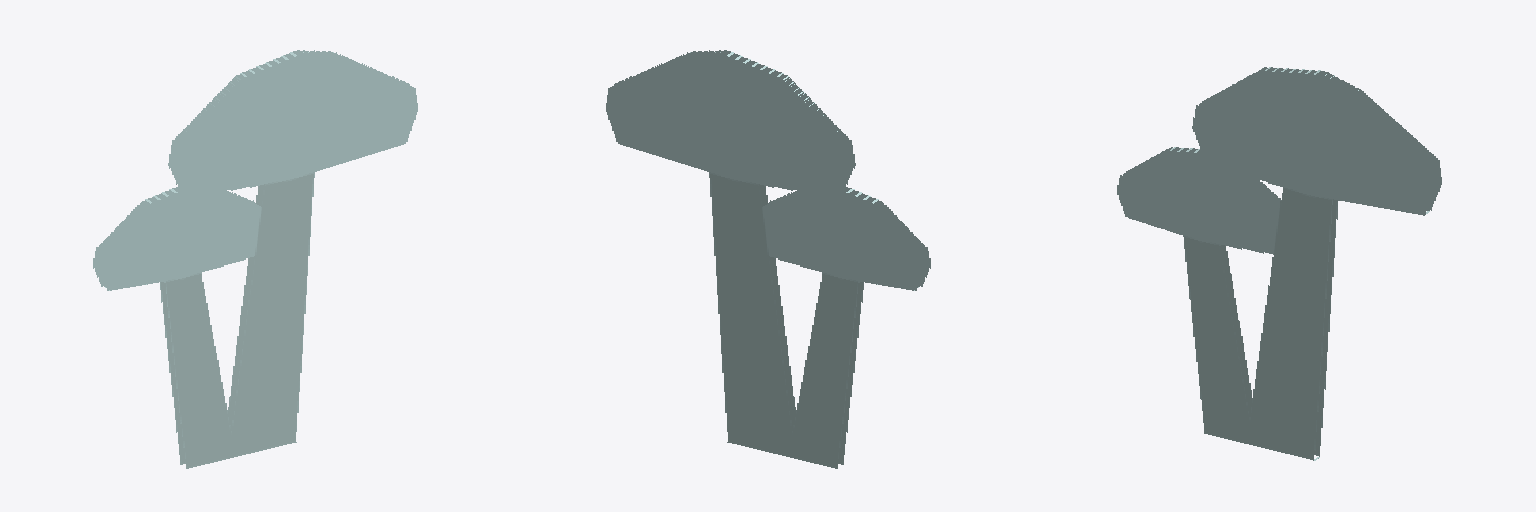
The picture shows the model from 3 angles: view 1: azimuth 30°, elevation 25°; view 2: azimuth 150°, elevation 25°; view 3: azimuth 330°, elevation 25°; orthographic projection.
Parts seen in each view (by area): view 1: shroom2; view 2: shroom2; view 3: shroom2.
Part boxes in pixels (bbox=[...]): shroom2: bbox=[93, 50, 417, 468]; shroom2: bbox=[606, 50, 930, 468]; shroom2: bbox=[1117, 67, 1441, 460].
Size of the model in its own units: 13.88 by 15.7 by 0.4138.
Materials: 1 (1 with a texture image).